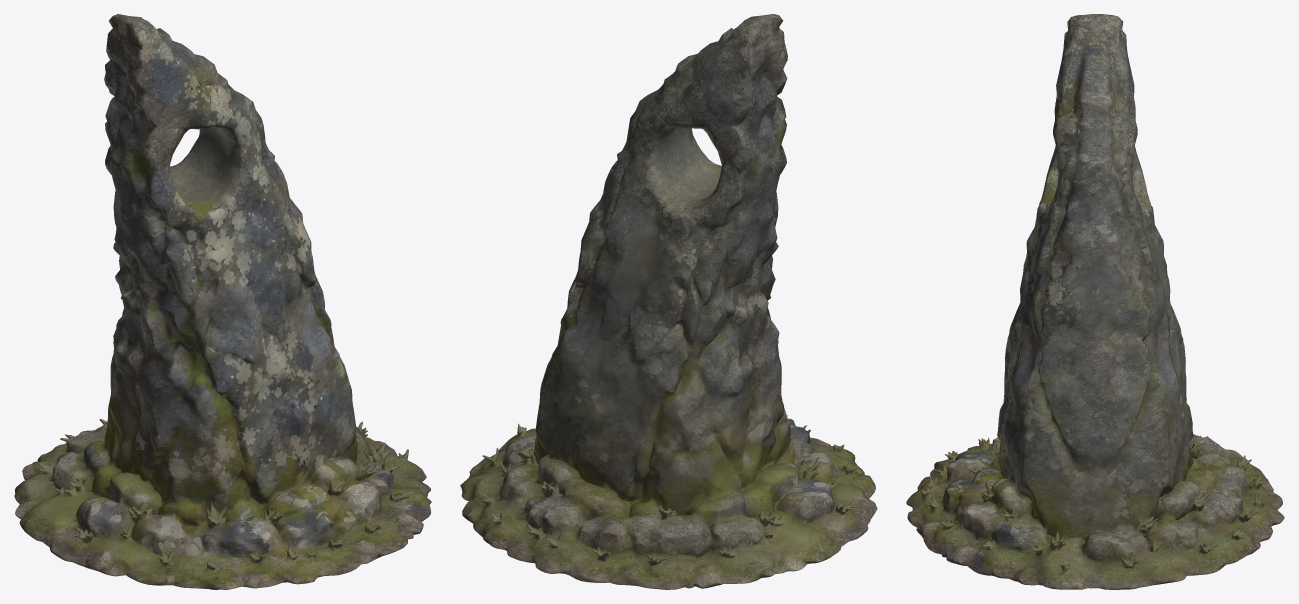
The model's file is holed_standing_stone_tripo.glb.
3 renders of one model, left to right at view 1: azimuth 30°, elevation 25°; view 2: azimuth 150°, elevation 25°; view 3: azimuth 270°, elevation 25°, orthographic. The views are drawn at different scales.
Parts seen in each view (by area): view 1: tripo_node_507380f7-ebe2-493e-b428-e47c6b6cf8f6; view 2: tripo_node_507380f7-ebe2-493e-b428-e47c6b6cf8f6; view 3: tripo_node_507380f7-ebe2-493e-b428-e47c6b6cf8f6.
Part boxes in pixels (x1,y1,x2,y2): tripo_node_507380f7-ebe2-493e-b428-e47c6b6cf8f6: (14,14,431,589); tripo_node_507380f7-ebe2-493e-b428-e47c6b6cf8f6: (460,14,877,589); tripo_node_507380f7-ebe2-493e-b428-e47c6b6cf8f6: (906,14,1284,589).
Bounding box in the file's own units: 0.7469 × 1 × 0.7522.
1 material, 1 textured.
